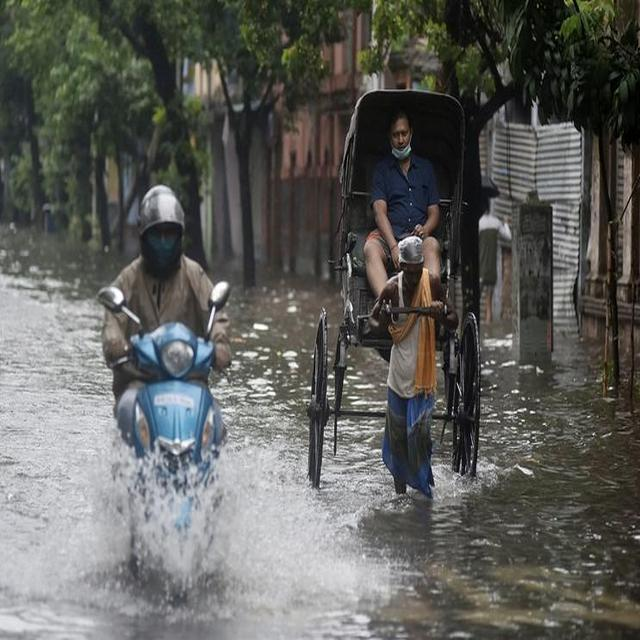Person-RiskLevel2: (95, 174, 250, 576), (369, 237, 461, 502), (356, 98, 460, 308)
